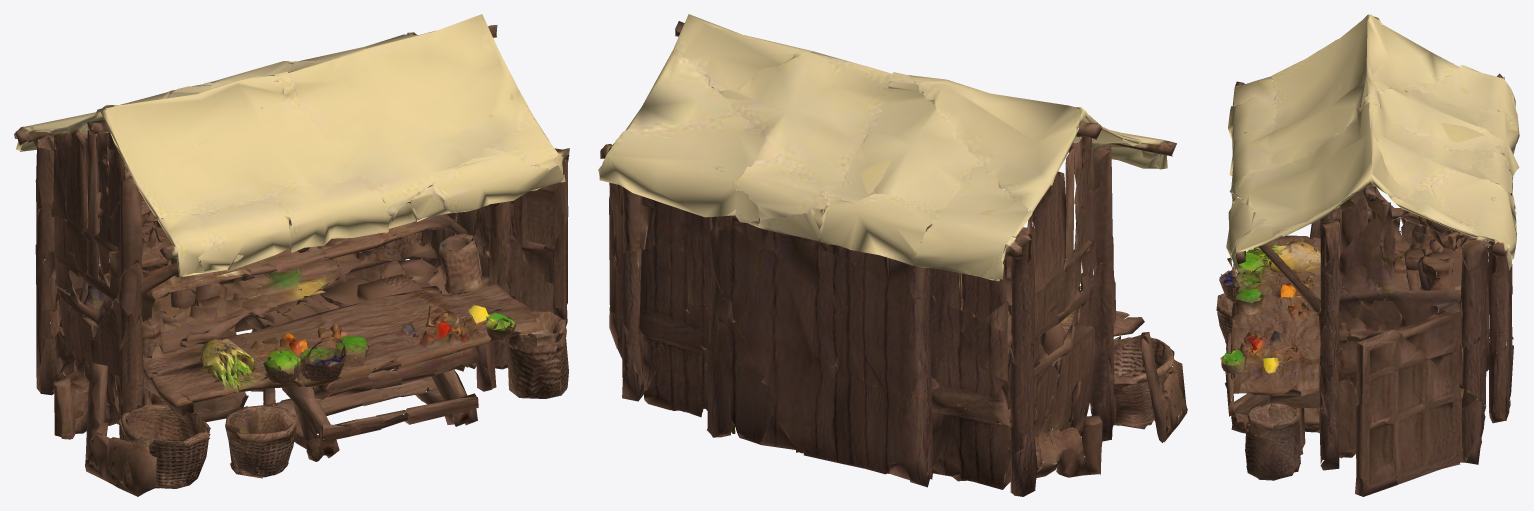
File: market-stall.glb
3 renders of one model, left to right at view 1: azimuth 30°, elevation 25°; view 2: azimuth 150°, elevation 25°; view 3: azimuth 270°, elevation 25°, orthographic. The views are drawn at different scales.
Parts seen in each view (by area): view 1: Mesh_0; view 2: Mesh_0; view 3: Mesh_0.
Boxes of the visible parts, <box> form: Mesh_0: <box>14,14,569,496</box>; Mesh_0: <box>598,14,1187,496</box>; Mesh_0: <box>1216,14,1519,496</box>.
Size of the model in its own units: 1.89 by 1.19 by 1.11.
Materials: 1 (1 with a texture image).
